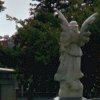Statue: (44, 5, 91, 94)
